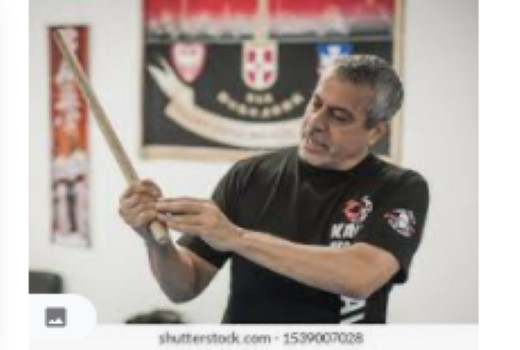baston_e: (56, 54, 144, 177)
baston_v: (140, 216, 180, 250), (48, 24, 74, 43)
